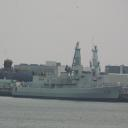Fragata: (11, 41, 125, 106)
